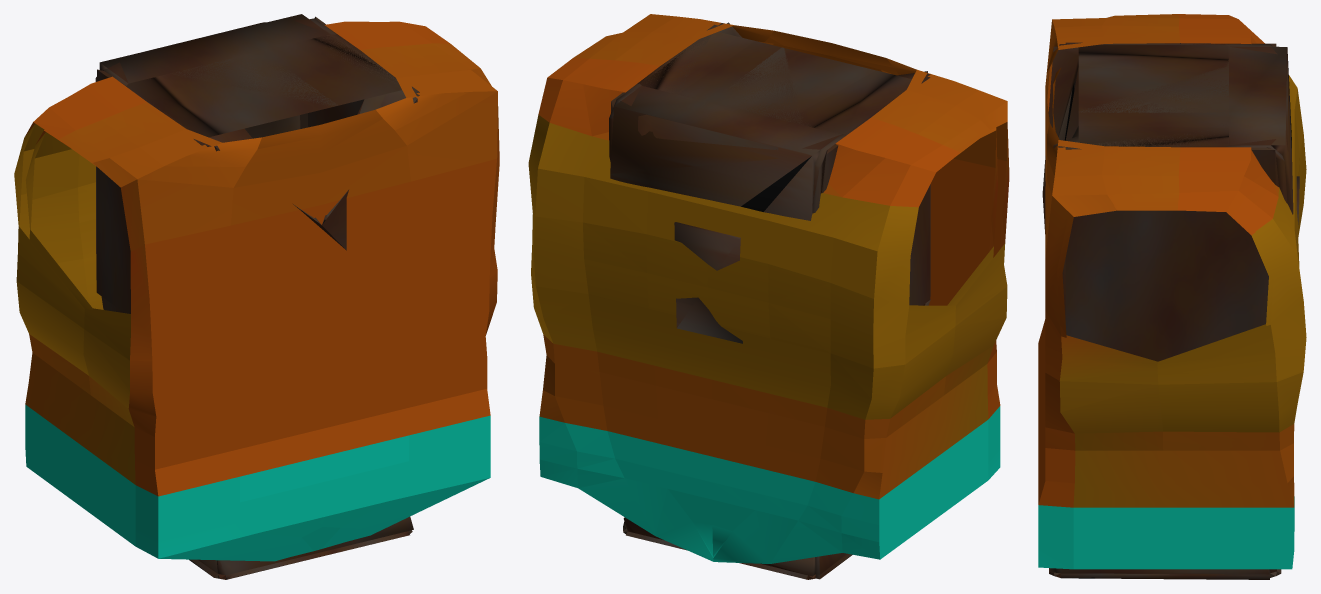
The model's file is Armor.fbx.
3 views of the same model, side by side, from view 1: azimuth 30°, elevation 25°; view 2: azimuth 150°, elevation 25°; view 3: azimuth 270°, elevation 25° (orthographic).
Parts seen in each view (by area): view 1: Armor_OuterCage, Armor, Armor_InnerCage; view 2: Armor_OuterCage, Armor, Armor_InnerCage; view 3: Armor_OuterCage, Armor, Armor_InnerCage.
Boxes of the visible parts, x1,y1,x2,y2 form: Armor_OuterCage: [14, 21, 499, 561]; Armor: [95, 14, 419, 579]; Armor_InnerCage: [25, 130, 130, 315]; Armor_OuterCage: [528, 14, 1009, 563]; Armor: [609, 22, 930, 579]; Armor_InnerCage: [759, 41, 997, 305]; Armor_OuterCage: [1038, 14, 1306, 569]; Armor: [1042, 42, 1299, 579]; Armor_InnerCage: [1052, 68, 1273, 363].
Size of the model in its own units: 2.12 by 2.25 by 1.25.
2 materials, 1 textured.
